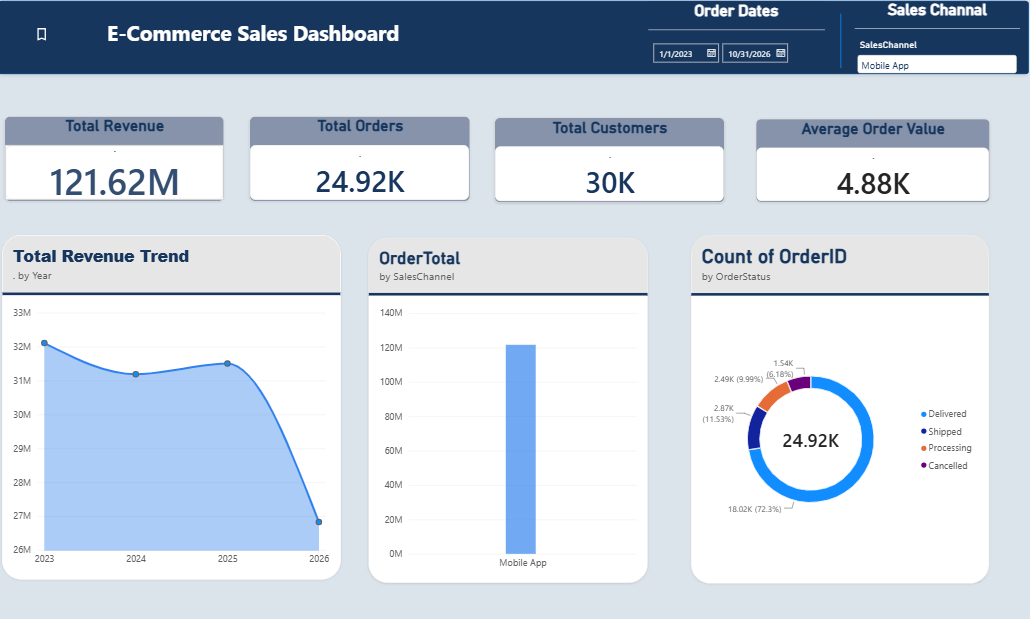

The dashboard page shown, as its layout file describes it:
{"tool":"powerbi","page":{"name":"Page 1","canvas":[1920,1080],"ordinal":0},"visuals":[{"type":"cardVisual","title":"         Total Revenue","fields":{"Data":["Sum(Orders.OrderTotal)"]},"box":[12,178,336,130],"z":0},{"type":"cardVisual","title":"Total Orders","fields":{"Data":["Count(Orders.OrderID)"]},"box":[386.4,178.8,337.6,130],"z":1000},{"type":"cardVisual","title":"Total Customers","fields":{"Data":["Count(Customers.CustomerID)"]},"box":[762,180,352,130],"z":2000},{"type":"cardVisual","title":"Average Order Value","fields":{"Data":["Avg(Orders.OrderTotal)"]},"box":[1160,182.4,358,127.6],"z":3000},{"type":"lineChart","title":"Total Revenue Trend","fields":{"Category":["Orders.OrderDate.Variation.Date Hierarchy.Year","Orders.OrderDate.Variation.Date Hierarchy.Quarter","Orders.OrderDate.Variation.Date Hierarchy.Month","Orders.OrderDate.Variation.Date Hierarchy.Day"],"Y":["Sum(Orders.OrderTotal)"]},"box":[8,360,518,527.2],"z":4000},{"type":"clusteredColumnChart","fields":{"Category":["Orders.SalesChannel"],"Y":["Sum(Orders.OrderTotal)"]},"box":[568,364,428,529.2],"z":5000},{"type":"donutChart","fields":{"Category":["Orders.OrderStatus"],"Y":["CountNonNull(Orders.OrderID)"]},"box":[1061.7,360,456.7,533.3],"z":6000},{"type":"shape","box":[0,0,1580,115],"z":7000},{"type":"textbox","box":[168.3,28.3,690,58.3],"z":8000},{"type":"slicer","title":"Sales Channal","fields":{"Values":["Orders.SalesChannel"]},"box":[1311.7,0,253.3,115],"z":9000},{"type":"slicer","title":"Order Dates","fields":{"Values":["Orders.OrderDate"]},"box":[996.7,1.7,270,103.3],"z":10000},{"type":"shape","box":[1276.7,21.7,26.7,83.3],"z":11000},{"type":"actionButton","box":[0,0,136.7,105],"z":11001}]}

Visuals, with their boxes on the page's 1920x1080 design canvas (x1, y1, x2, y2). These are canvas units, not pixel positions in the 1030x619 screenshot, which may show the page scaled, cropped or inside an application window:
"         Total Revenue" cardVisual: (12, 178, 348, 308)
"Total Orders" cardVisual: (386, 179, 724, 309)
"Total Customers" cardVisual: (762, 180, 1114, 310)
"Average Order Value" cardVisual: (1160, 182, 1518, 310)
"Total Revenue Trend" lineChart: (8, 360, 526, 887)
clusteredColumnChart - Orders.SalesChannel x Sum(Orders.OrderTotal): (568, 364, 996, 893)
donutChart - Orders.OrderStatus x CountNonNull(Orders.OrderID): (1062, 360, 1518, 893)
shape: (0, 0, 1580, 115)
textbox: (168, 28, 858, 87)
"Sales Channal" slicer: (1312, 0, 1565, 115)
"Order Dates" slicer: (997, 2, 1267, 105)
shape: (1277, 22, 1303, 105)
actionButton: (0, 0, 137, 105)
